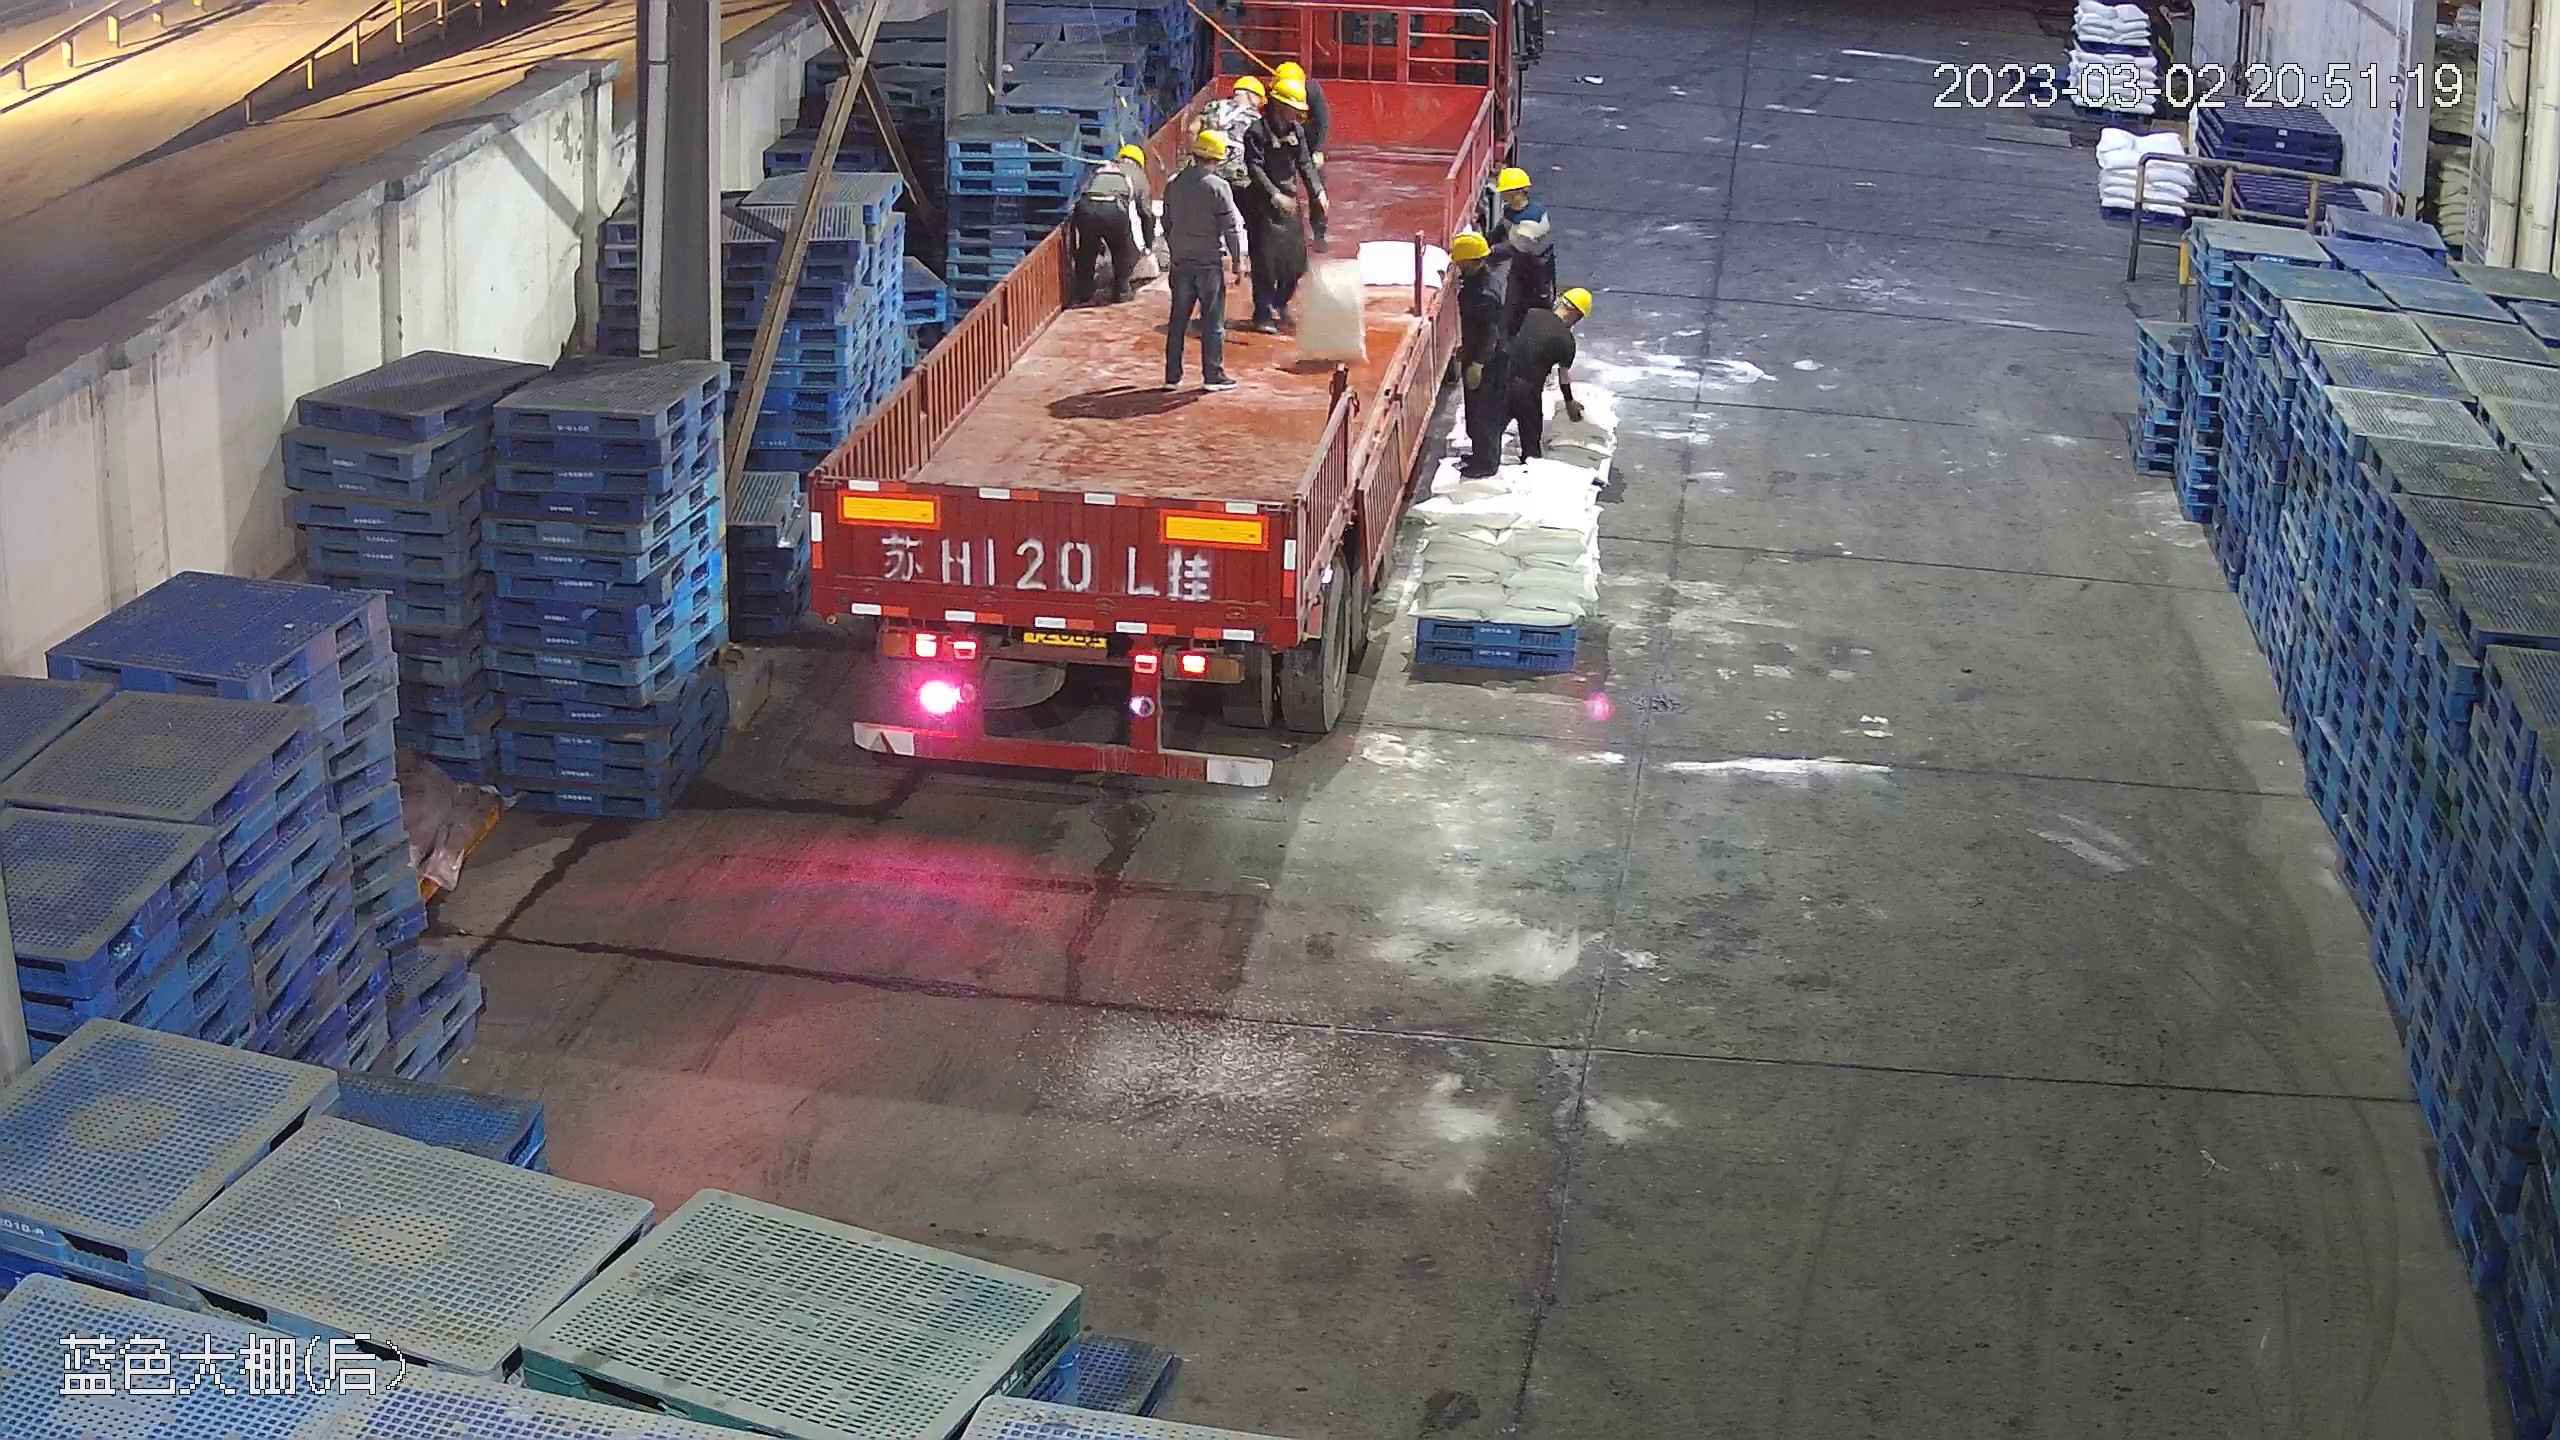belt: (1084, 149, 1136, 203), (1209, 95, 1246, 145), (1263, 120, 1299, 153)
head: (1164, 126, 1247, 209), (1245, 72, 1315, 160), (1435, 229, 1503, 319), (1488, 164, 1554, 251), (1523, 286, 1590, 363), (1092, 139, 1156, 205)
helmet: (1448, 226, 1492, 260), (1188, 122, 1229, 155), (1493, 164, 1531, 193), (1271, 79, 1309, 109), (1558, 286, 1593, 317), (1232, 72, 1266, 102), (1114, 141, 1147, 169), (1272, 60, 1305, 81)
people: (1151, 133, 1245, 394), (1236, 67, 1324, 326), (1437, 235, 1509, 475), (1501, 281, 1588, 469), (1075, 132, 1156, 314), (1492, 162, 1552, 324)
truck: (805, 72, 1467, 784)
